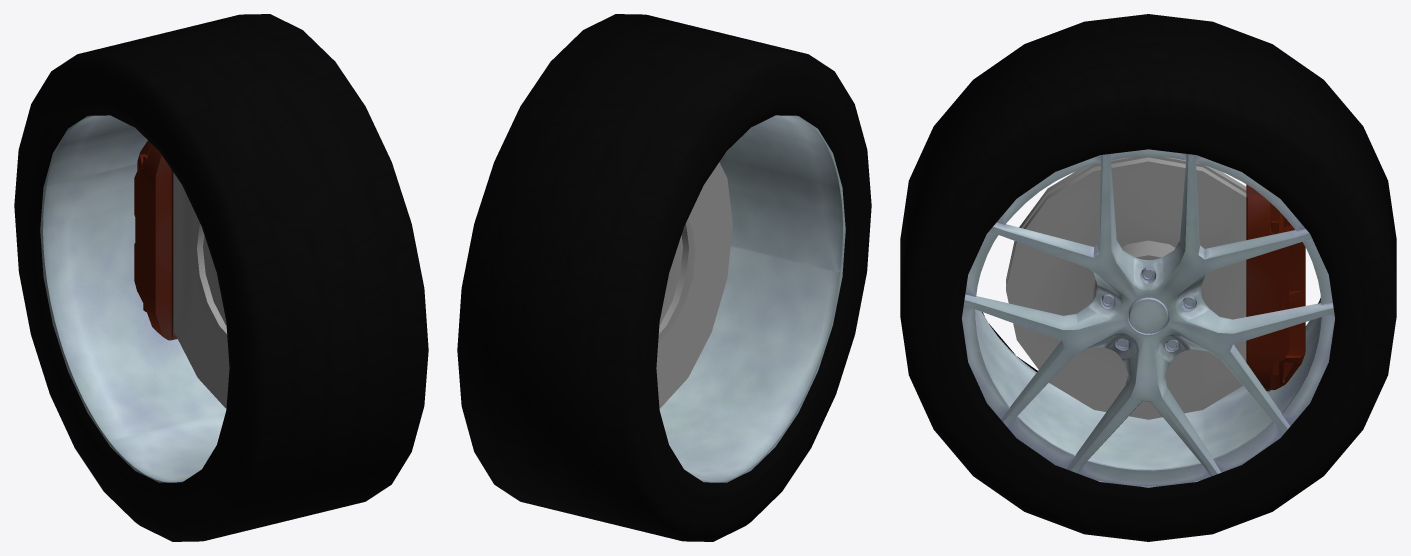
The picture shows the model from 3 angles, left to right: view 1: azimuth 30°, elevation 25°; view 2: azimuth 150°, elevation 25°; view 3: azimuth 270°, elevation 25°; orthographic projection.
Parts seen in each view (by area): view 1: tire-low, wheel-full, brake-disc, brake-caliper; view 2: tire-low, wheel-full, brake-disc; view 3: tire-low, wheel-full, brake-disc, brake-caliper.
Part boxes in pixels (x1,y1,x2,y2): tire-low: (14, 14, 428, 541); wheel-full: (40, 115, 226, 482); brake-disc: (173, 173, 229, 408); brake-caliper: (134, 140, 177, 340); tire-low: (457, 14, 871, 541); wheel-full: (659, 115, 845, 482); brake-disc: (656, 162, 732, 408); tire-low: (900, 14, 1396, 541); wheel-full: (962, 149, 1334, 487); brake-disc: (1006, 156, 1246, 419); brake-caliper: (1246, 184, 1305, 391).
Bounding box in the file's own units: 0.3112 × 0.7561 × 0.7561.
2 materials, 2 textured.
